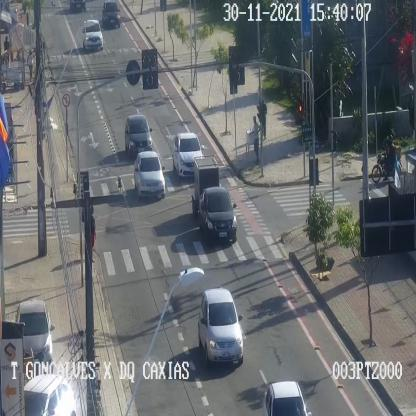car: (198, 289, 245, 367), (16, 300, 54, 367), (24, 372, 75, 416), (201, 186, 237, 243), (264, 379, 310, 415), (135, 151, 166, 200), (173, 132, 202, 178), (125, 114, 152, 152), (82, 20, 102, 52), (102, 2, 120, 30)
motorbike: (370, 136, 406, 183)
person: (252, 115, 262, 167)
